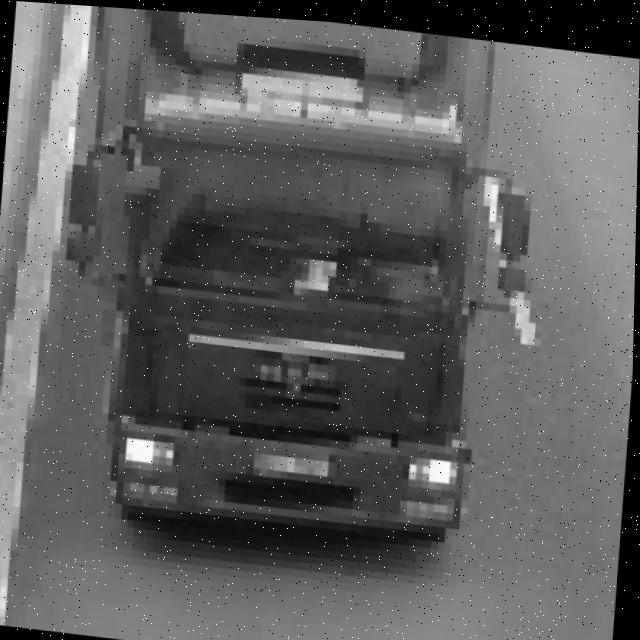truck: (51, 4, 551, 568)
